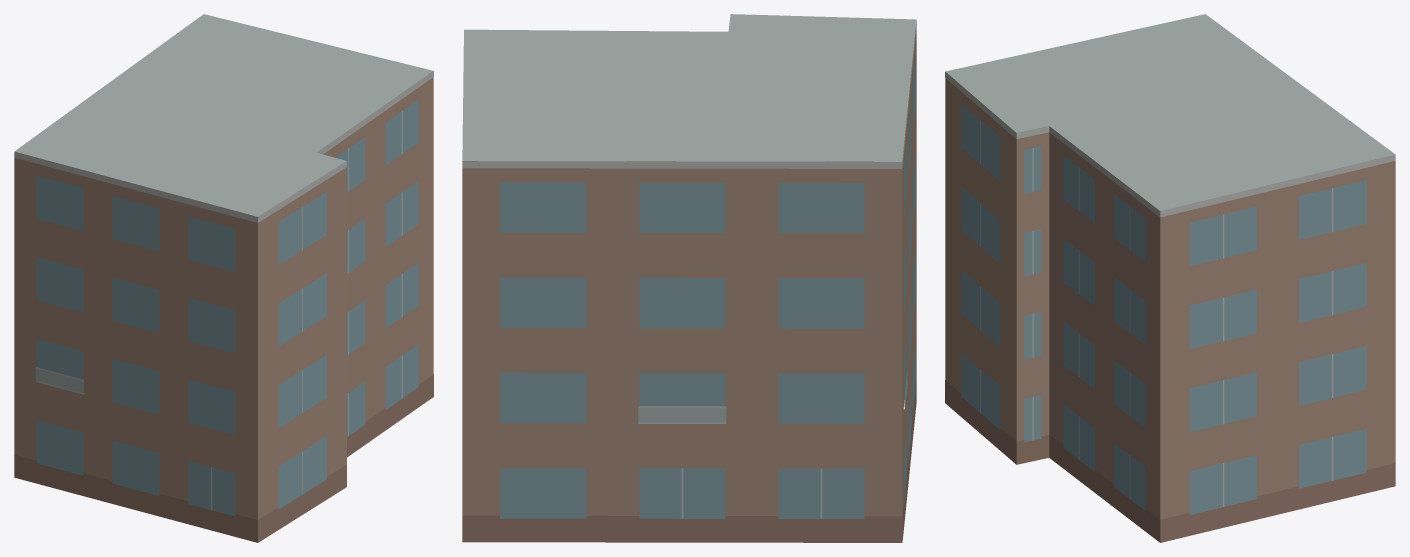
The model's file is survey-upis-33038999.glb.
The picture shows the model from 3 angles, left to right: view 1: azimuth 30°, elevation 25°; view 2: azimuth 150°, elevation 25°; view 3: azimuth 270°, elevation 25°; orthographic projection. The views are drawn at different scales.
Parts seen in each view (by area): view 1: survey-upis-33038999.tmp; view 2: survey-upis-33038999.tmp; view 3: survey-upis-33038999.tmp.
Part boxes in pixels (box(x1,y1,x2,y2)): survey-upis-33038999.tmp: box(14, 14, 433, 542); survey-upis-33038999.tmp: box(462, 14, 916, 542); survey-upis-33038999.tmp: box(945, 14, 1395, 542).
Bounding box in the file's own units: 16.52 × 12.95 × 15.95.
